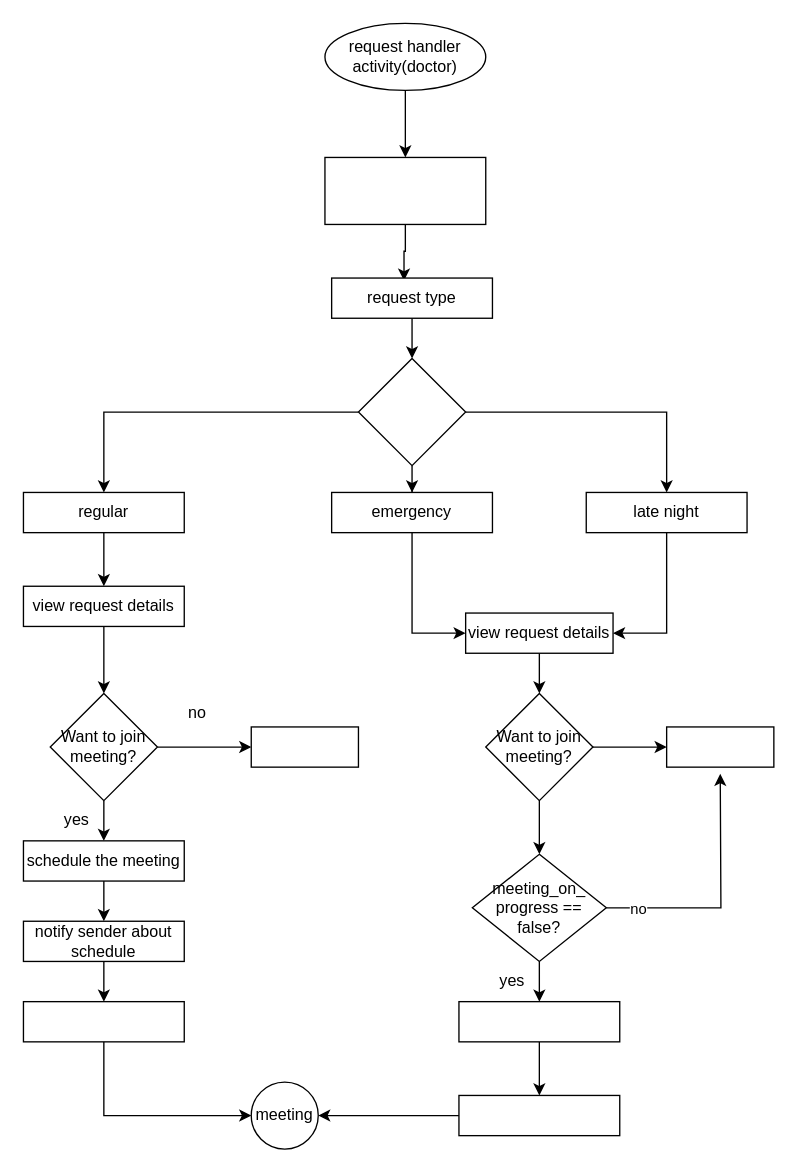
Image size: 797x1173. Some labels were removed from this diagram. The box of each missing label's shape, as (x1, y1, x2, y2) in pixels:
consult request appeared on notification panel: (324, 156, 486, 224)
ignore: (665, 726, 774, 767)
launch meeting: (22, 1000, 184, 1042)
notify sender: (250, 726, 358, 767)
notify sender and launch meeting: (458, 1094, 620, 1136)
set meeting_on_ progress = true: (458, 1000, 620, 1042)
